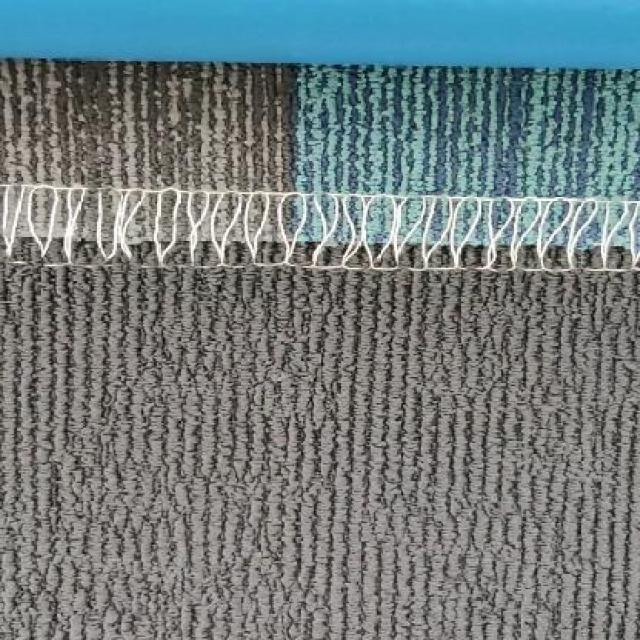gray stitch: (4, 176, 640, 278)
